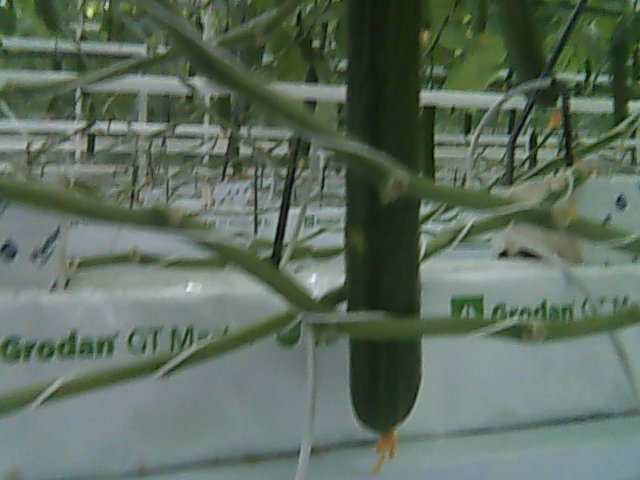concombre: (342, 1, 428, 468)
